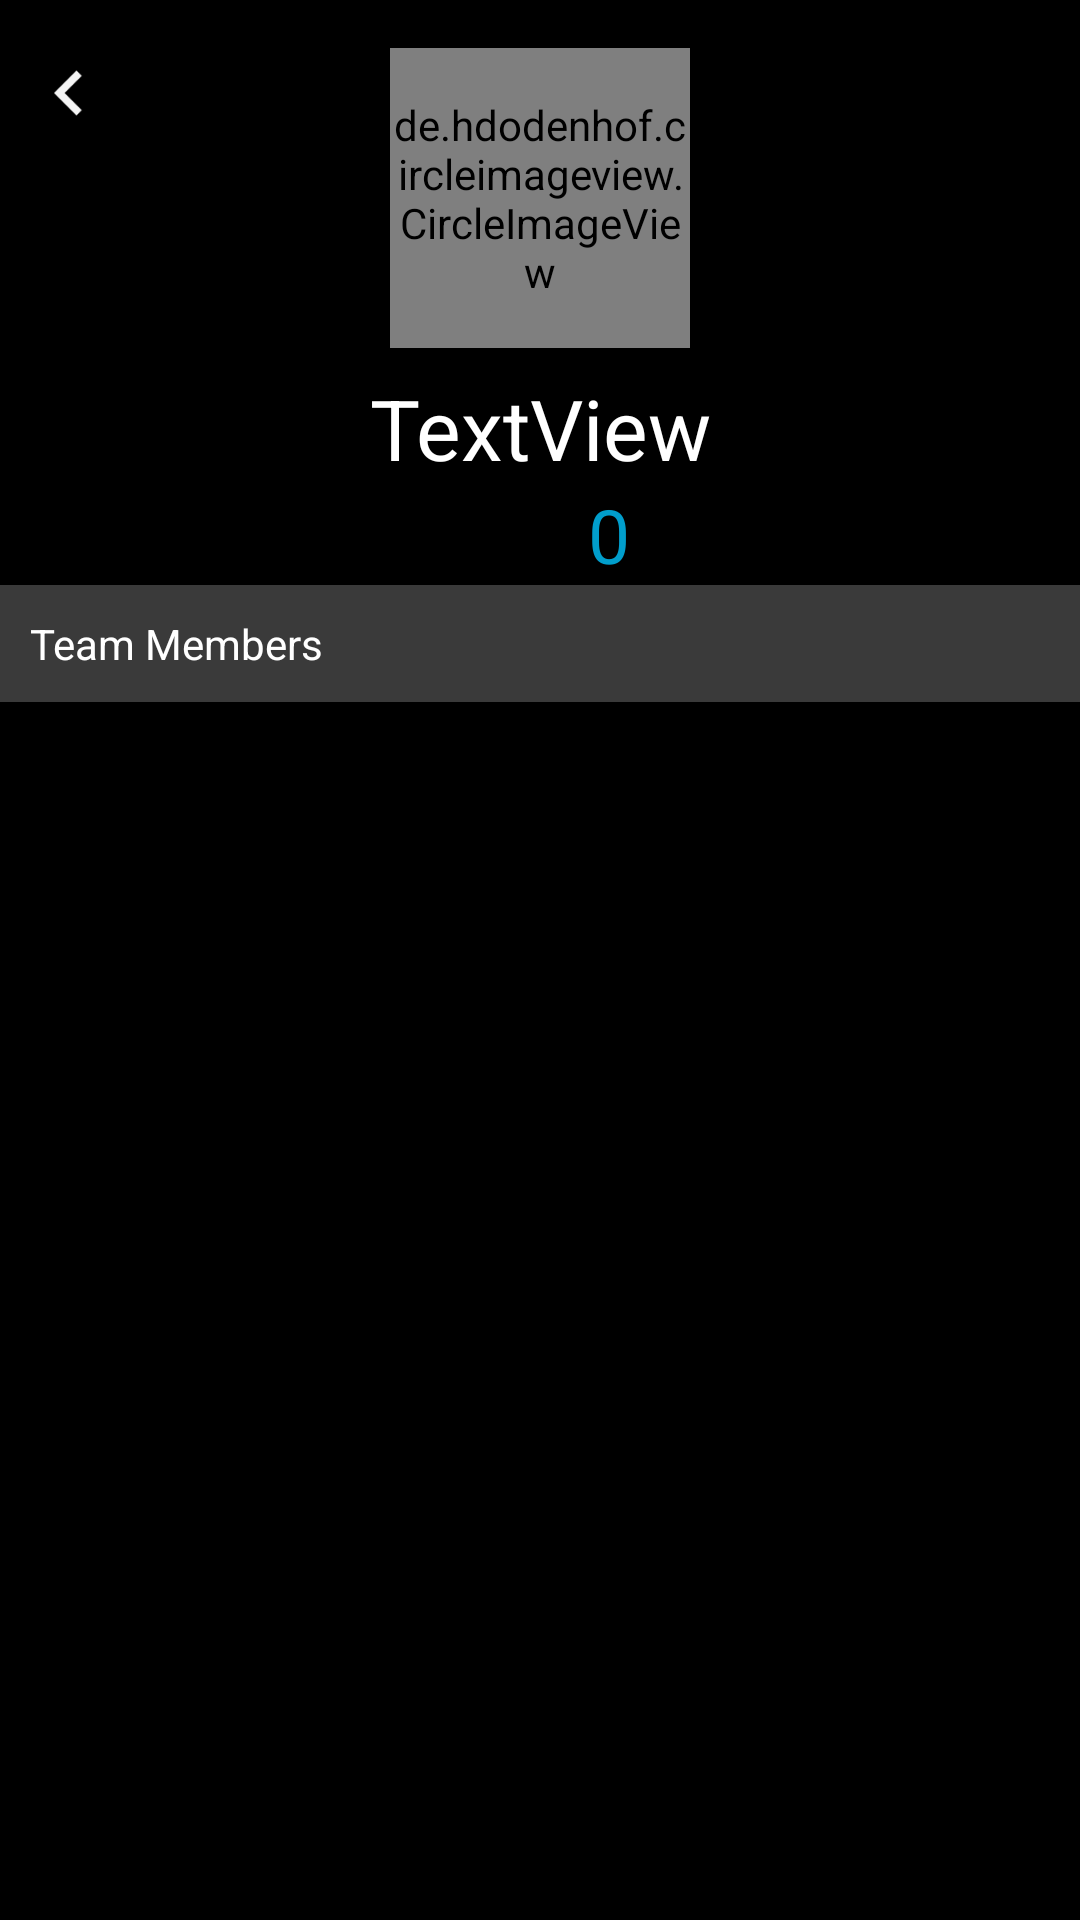

Named icons in this screenshot (1080*1920) and their bounding boxes, {"left": x1, "top": y1, "right": x2, "bottom": y2}:
back: {"left": 54, "top": 70, "right": 82, "bottom": 116}
